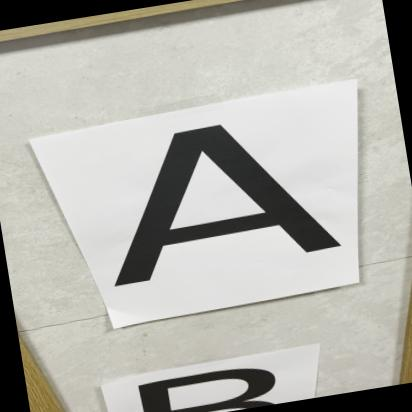seat: (76, 99, 355, 290)
